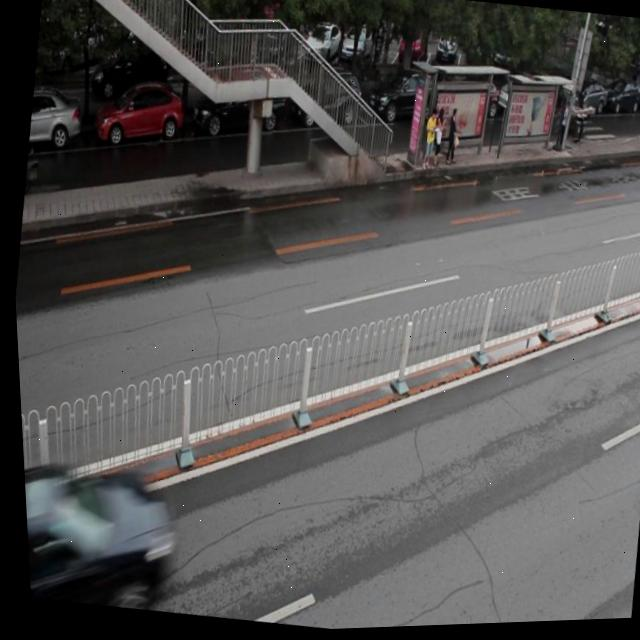car: (19, 453, 174, 616), (90, 77, 188, 158), (189, 68, 290, 146), (364, 64, 447, 135), (288, 66, 366, 139), (24, 89, 87, 158)
